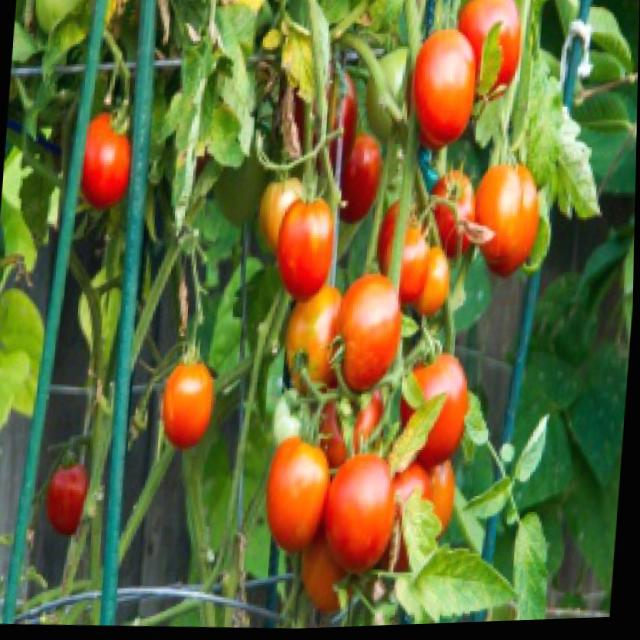tomato: (468, 164, 554, 288), (321, 454, 404, 580), (392, 353, 474, 479), (328, 274, 407, 402), (450, 0, 524, 127), (410, 30, 481, 158), (265, 438, 338, 561), (284, 286, 349, 398), (275, 201, 340, 308), (79, 101, 137, 213), (159, 360, 218, 455), (338, 134, 387, 229), (47, 443, 95, 539)
